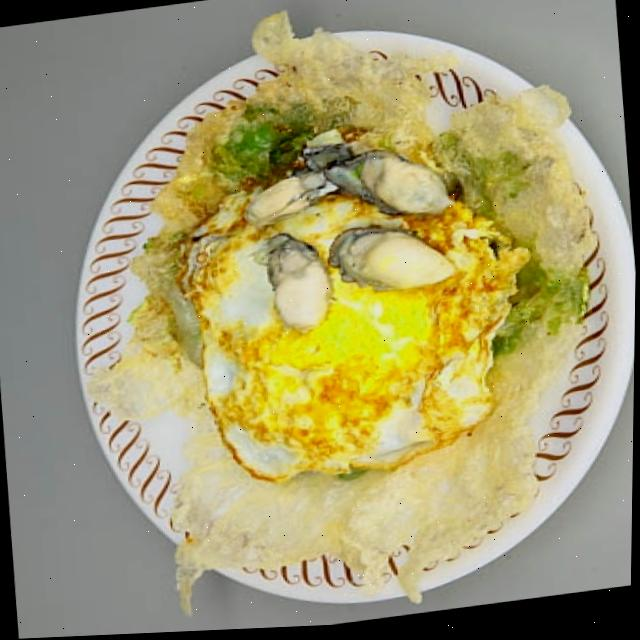熟制海鲜: (17, 0, 640, 639)
